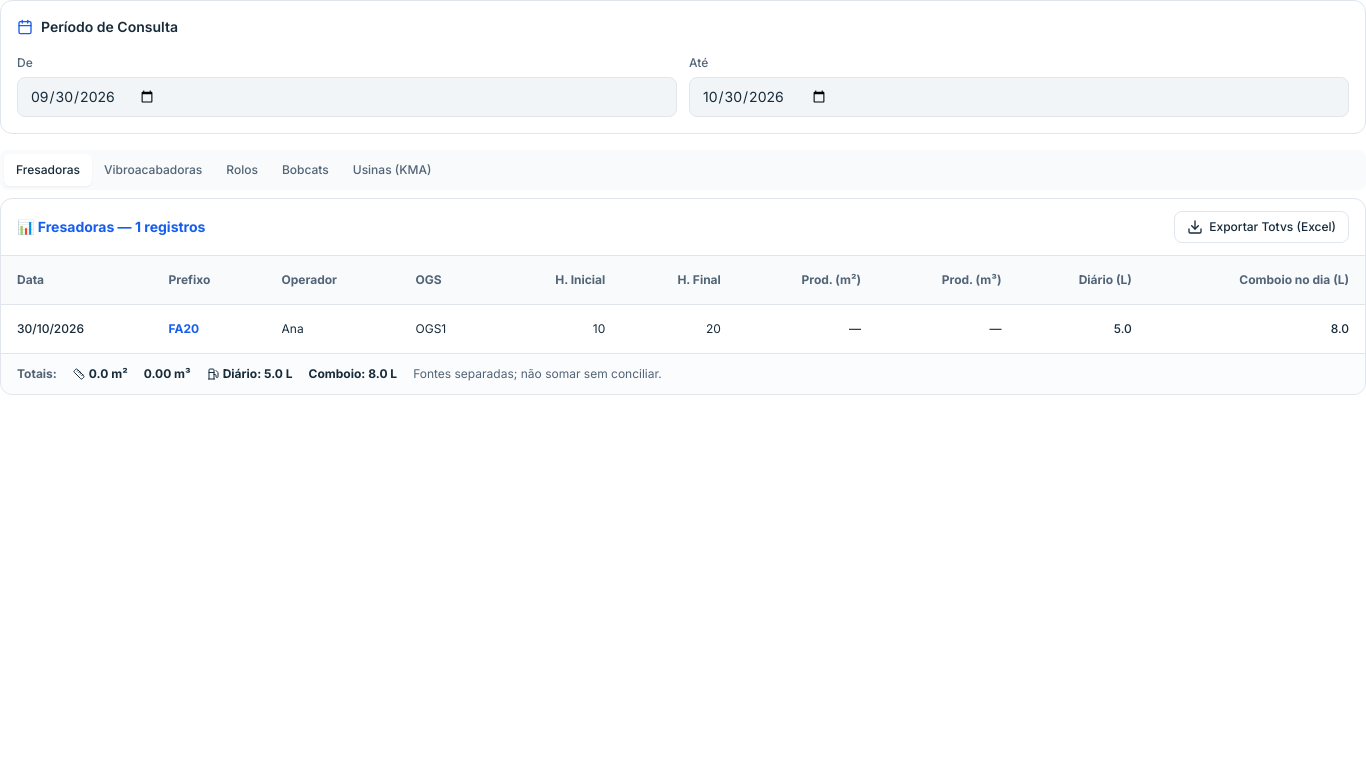
Test case: visão unificada dos equipamentos › lê comboio pela data/frota da empresa mesmo sem diary_id e NÃO soma com litros do operador
Click the text "FA20".
click(184, 328)  # box [153, 304, 266, 352]
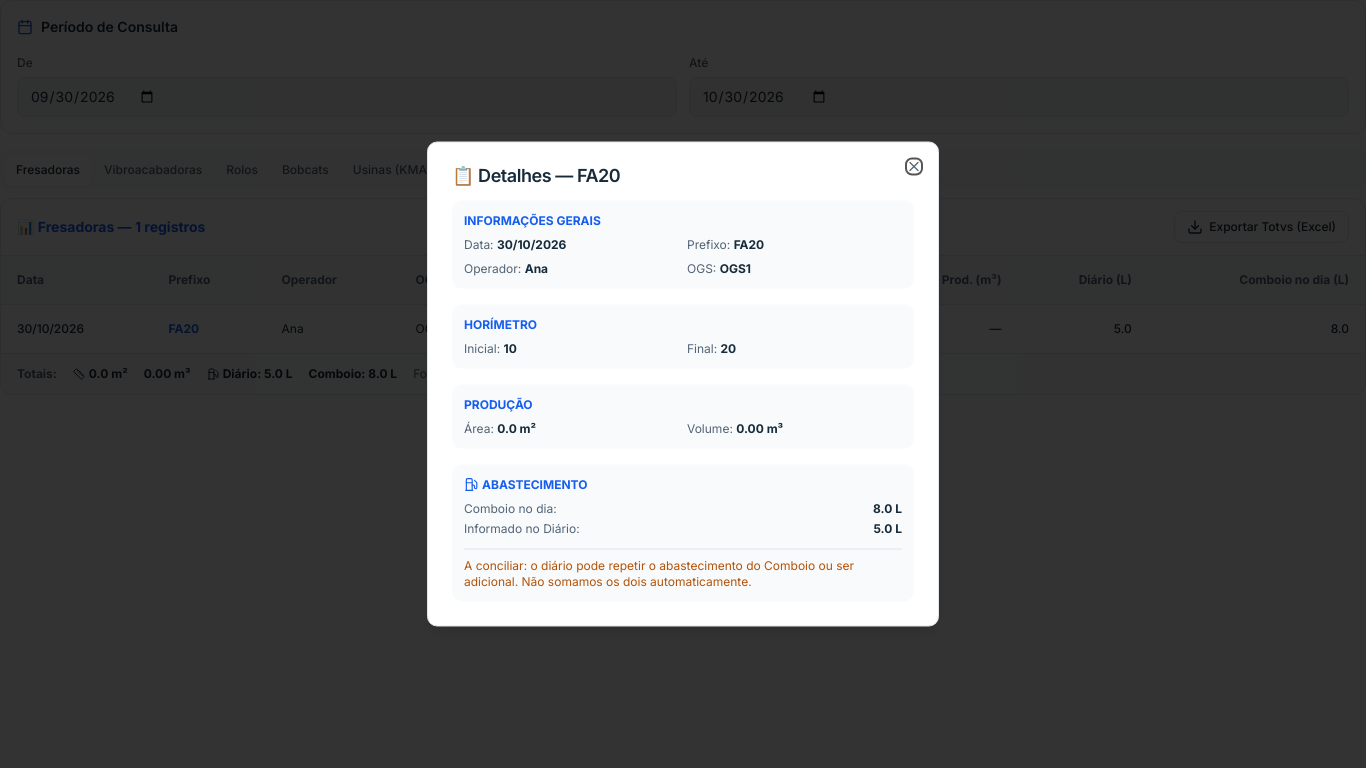
Now the text "8.0 L" is shown, box [873, 500, 902, 516]
Now the text "5.0 L" is shown, box [873, 520, 902, 536]
Now the text "A conciliar" is shown, box [464, 558, 854, 588]
